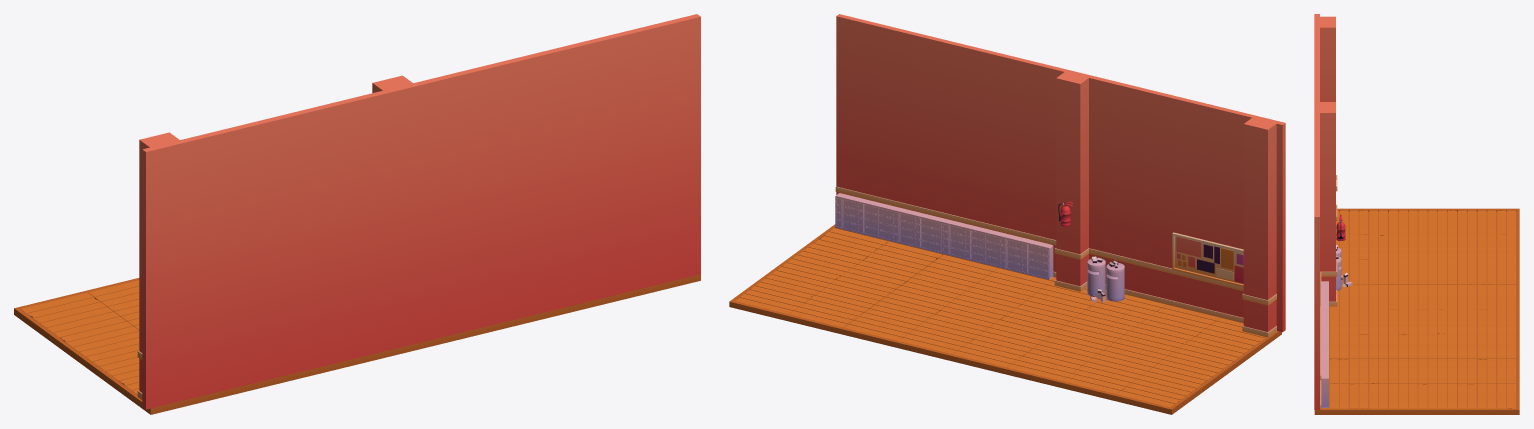
Rendered from Corredor_2.fbx.
3 renders of one model, left to right at view 1: azimuth 30°, elevation 25°; view 2: azimuth 150°, elevation 25°; view 3: azimuth 270°, elevation 25°, orthographic. The views are drawn at different scales.
Parts seen in each view (by area): view 1: Paredes.003, Chão.007, Chão.006, Coluna 1.004; view 2: Paredes.003, Chão.007, Coluna 1.004, Chão.006, Armarios.005, Armarios.004, Plane.015, Papel.007, Infos.004, Cylinder.002, Cylinder; view 3: Chão.007, Chão.006, Coluna 1.004, Paredes.003, Armarios.004, Plane.015, Armarios.005, NurbsPath.
Boxes of the visible parts, <box> form: Paredes.003: <box>142,14,700,409</box>; Chão.007: <box>20,280,139,394</box>; Chão.006: <box>14,274,700,414</box>; Coluna 1.004: <box>139,75,412,392</box>; Paredes.003: <box>836,14,1285,332</box>; Chão.007: <box>734,227,1266,407</box>; Coluna 1.004: <box>1056,72,1276,331</box>; Chão.006: <box>729,224,1281,414</box>; Armarios.005: <box>942,219,1053,279</box>; Armarios.004: <box>835,193,945,253</box>; Plane.015: <box>835,186,1276,337</box>; Papel.007: <box>1176,236,1243,283</box>; Infos.004: <box>1172,232,1243,286</box>; Cylinder.002: <box>1106,263,1124,301</box>; Cylinder: <box>1087,258,1105,296</box>; Chão.007: <box>1320,210,1515,408</box>; Chão.006: <box>1314,208,1519,414</box>; Coluna 1.004: <box>1320,16,1335,305</box>; Paredes.003: <box>1314,14,1319,409</box>; Armarios.004: <box>1321,330,1328,407</box>; Plane.015: <box>1320,175,1337,409</box>; Armarios.005: <box>1321,281,1328,329</box>; NurbsPath: <box>1336,214,1345,240</box>.
Bounding box in the file's own units: 4195 × 1908 × 1791.
2 materials, 2 textured.
